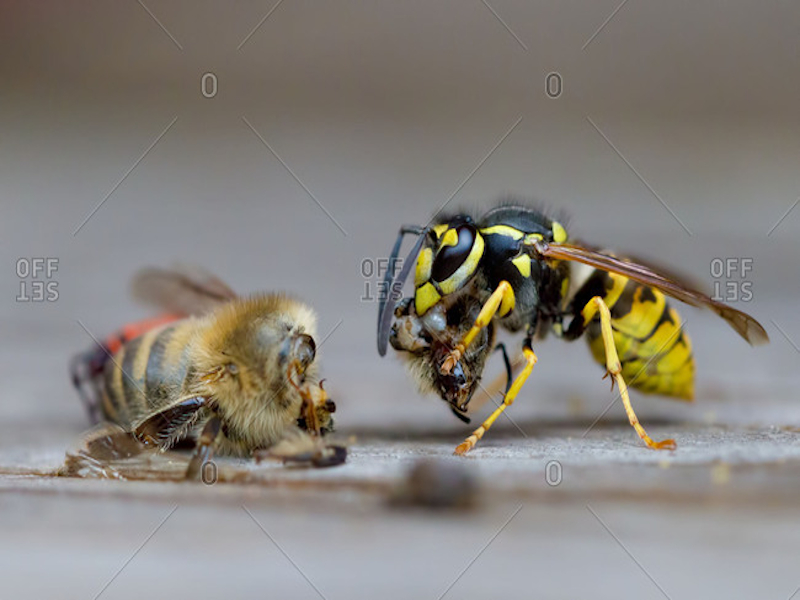abeja: (45, 255, 361, 498)
chax: (375, 164, 785, 477)
